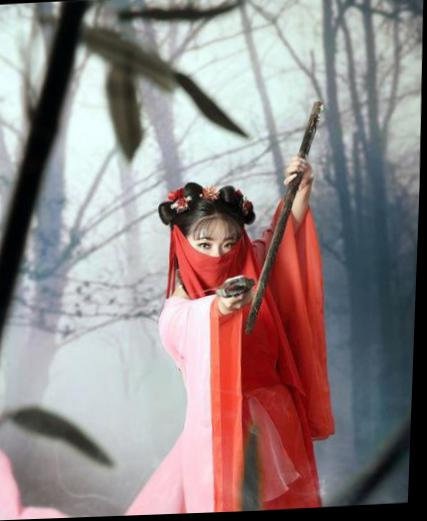WRONG: (192, 234, 244, 286)
